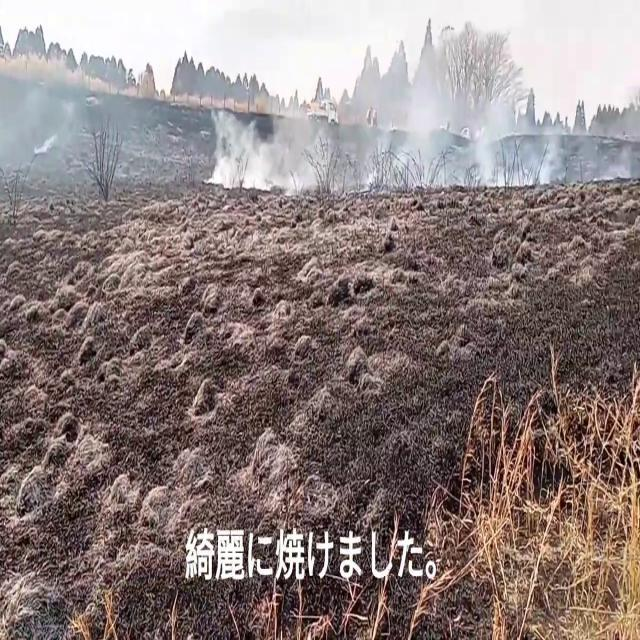Smoke: (210, 2, 640, 200), (0, 53, 134, 204)
